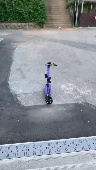beam: (41, 60, 59, 105)
